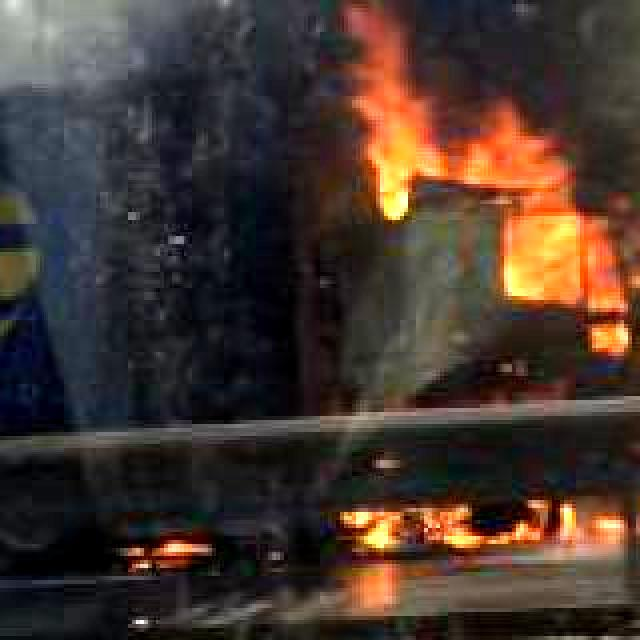smoke: (140, 0, 640, 124)
